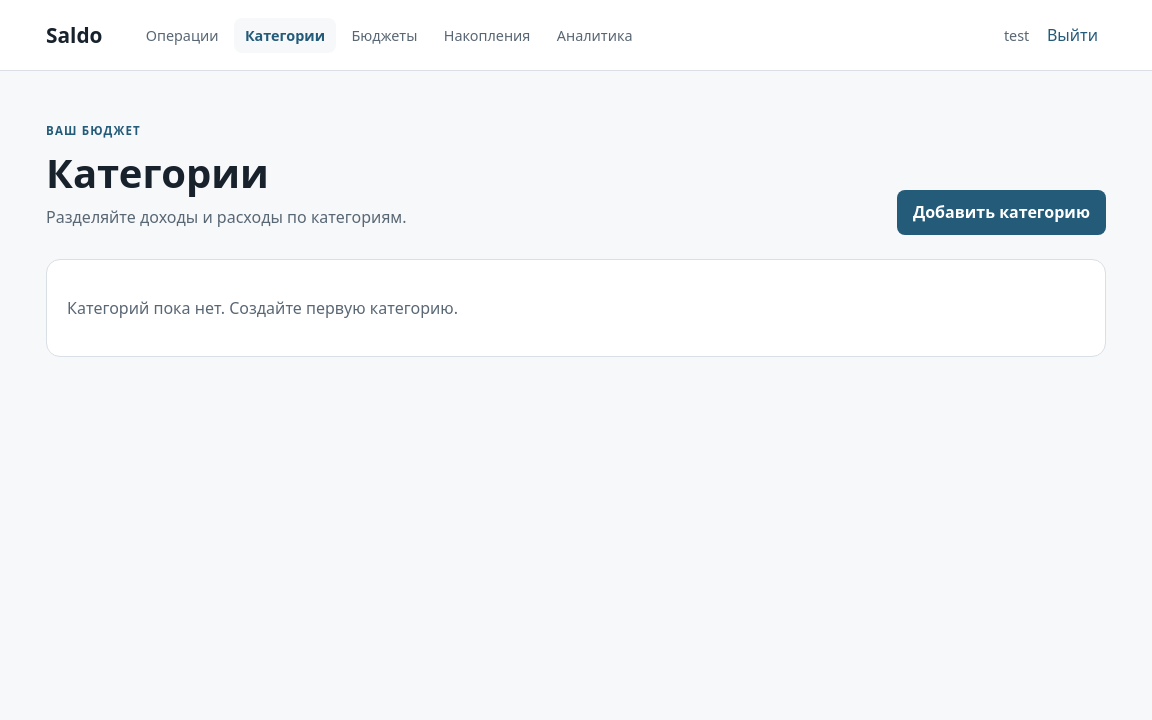
Test case: categories › creates, updates and deletes a category with an explicit warning
Expected: the text "Категорий пока нет. Создайте первую категорию." is shown, [67,297,458,319]
Click the button "Добавить категорию".
click(1002, 212)  # box [897,190,1106,235]
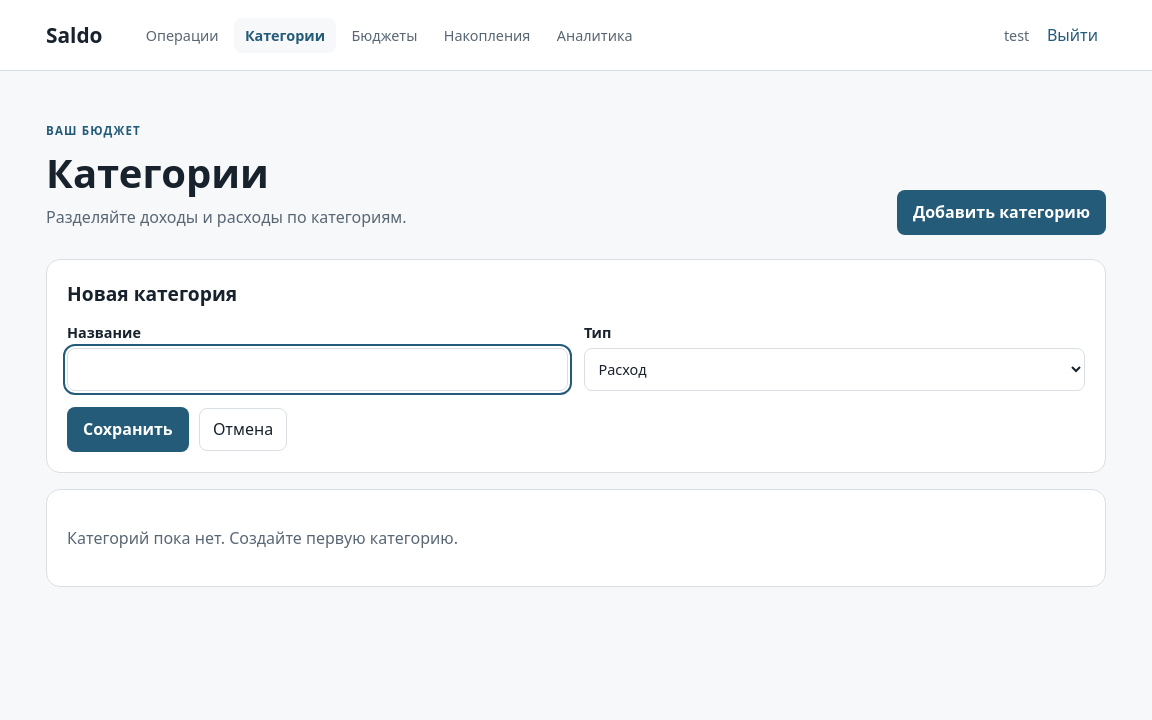
Type "Продукты" into the field labelled "Название".
click(318, 370); type("Продукты")  # box [67,348,568,391]
Click the button "Сохранить".
click(128, 429)  # box [67,407,189,452]
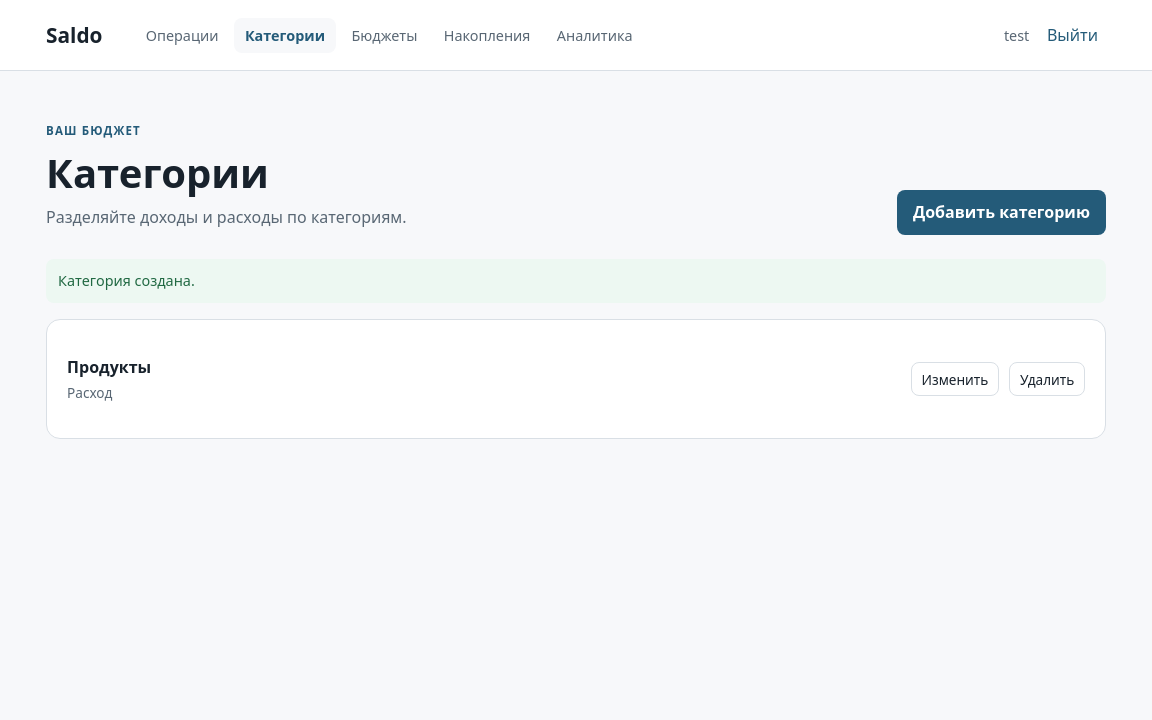
Now the text "Продукты" is shown, box [67,356,151,378]
Click the button with aria-label "Изменить категорию Продукты".
click(955, 379)  # box [911,362,999,396]
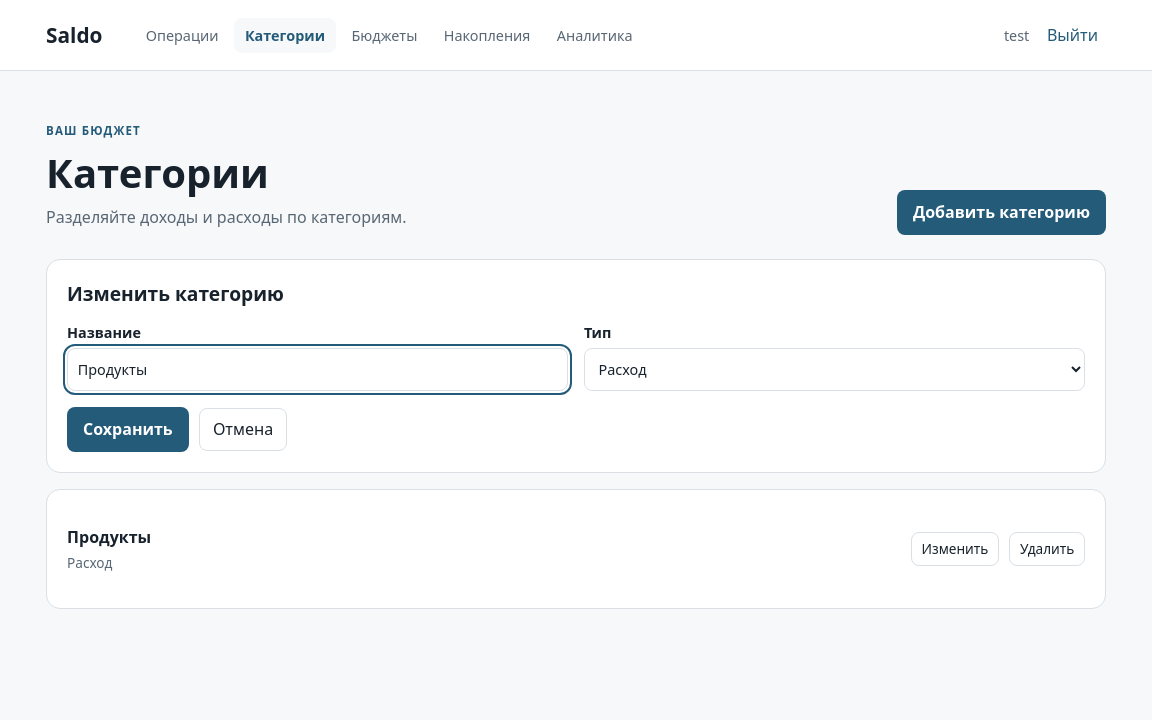
Replace the text in the field labelled "Название" with "Еда" at (318, 370), box [67,348,568,391]
Click the button "Сохранить".
click(128, 429)  # box [67,407,189,452]
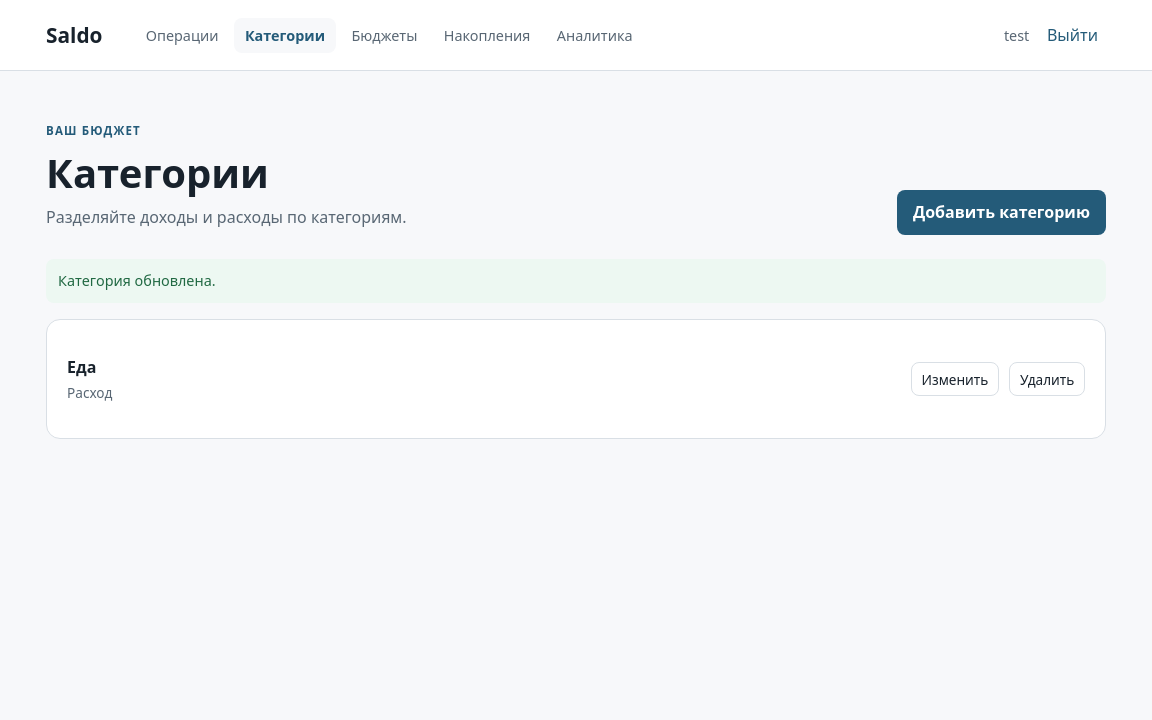
Now the text "Еда" is shown, box [67,356,96,378]
Click the button with aria-label "Удалить категорию Еда".
click(1047, 379)  # box [1009,362,1085,396]
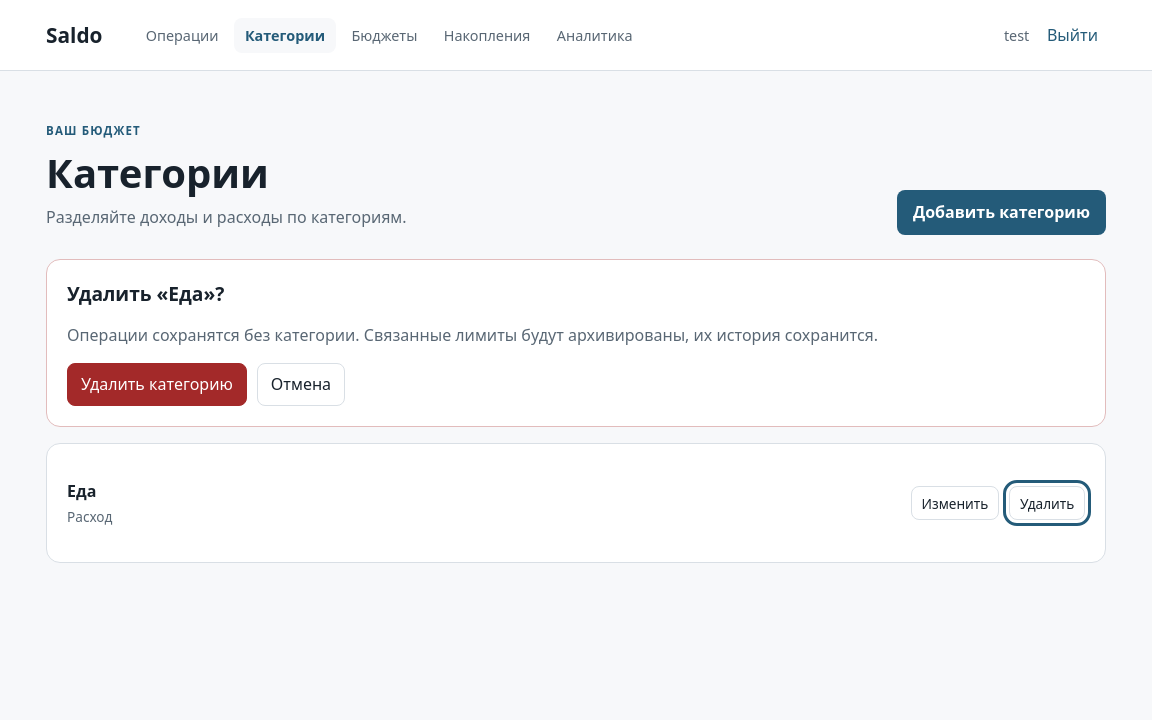
Now the dialog shows "Операции сохранятся без категории", box [67,324,878,346]
Now the dialog shows "лимиты будут архивированы", box [67,324,878,346]
Click the button "Удалить категорию".
click(157, 384)  # box [67,363,247,406]
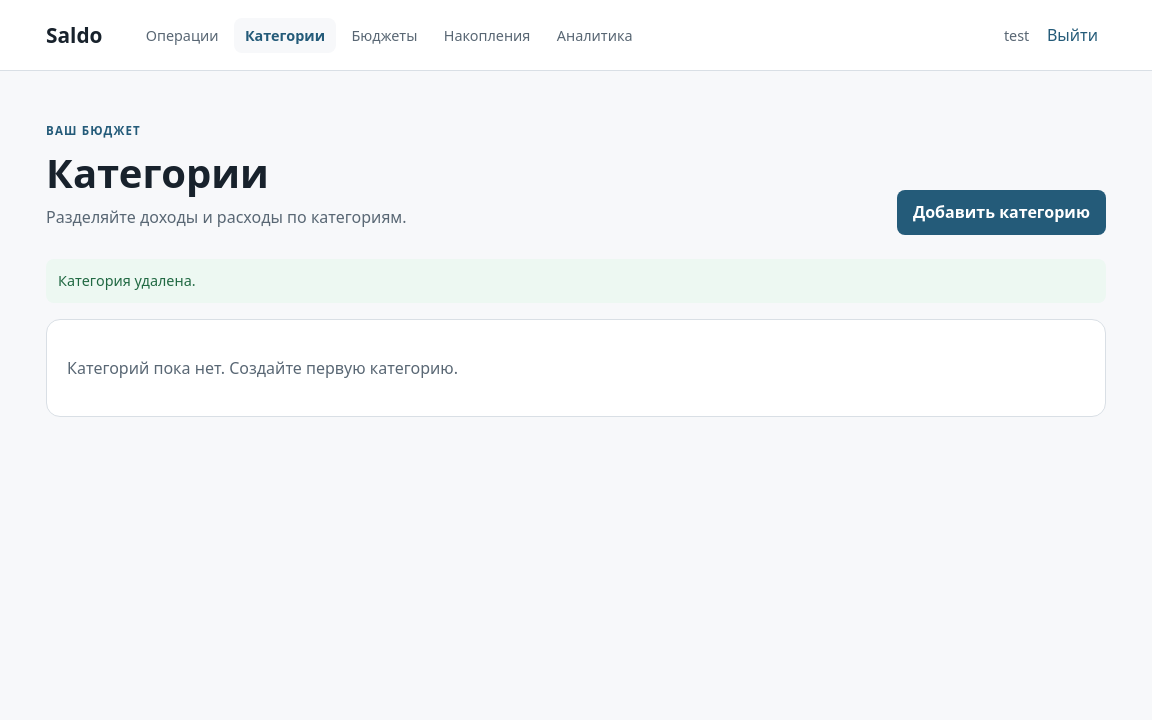
Now the text "Категорий пока нет. Создайте первую категорию." is shown, box [67,357,458,379]
